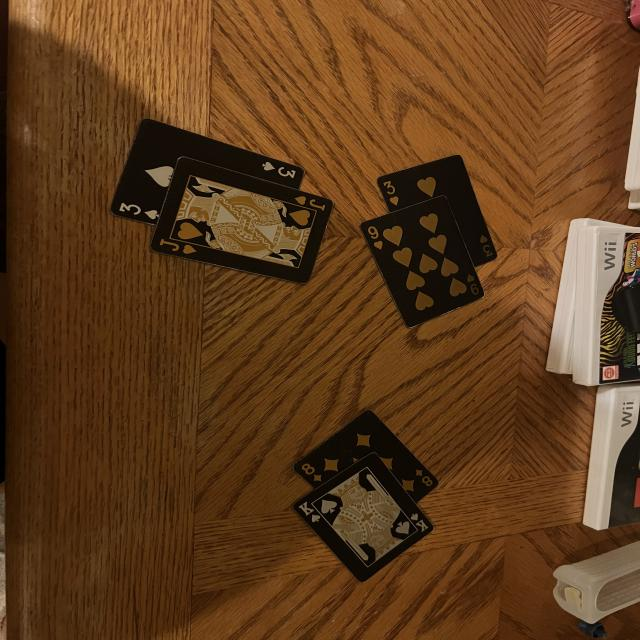3H: (478, 232, 496, 259), (384, 178, 401, 206)
3S: (116, 199, 160, 221), (261, 158, 299, 179)
8D: (294, 460, 330, 486), (408, 466, 437, 488)
9H: (365, 226, 388, 252), (462, 272, 482, 297)
JH: (159, 238, 198, 256), (294, 192, 328, 211)
KS: (295, 498, 324, 525), (407, 511, 430, 533)
